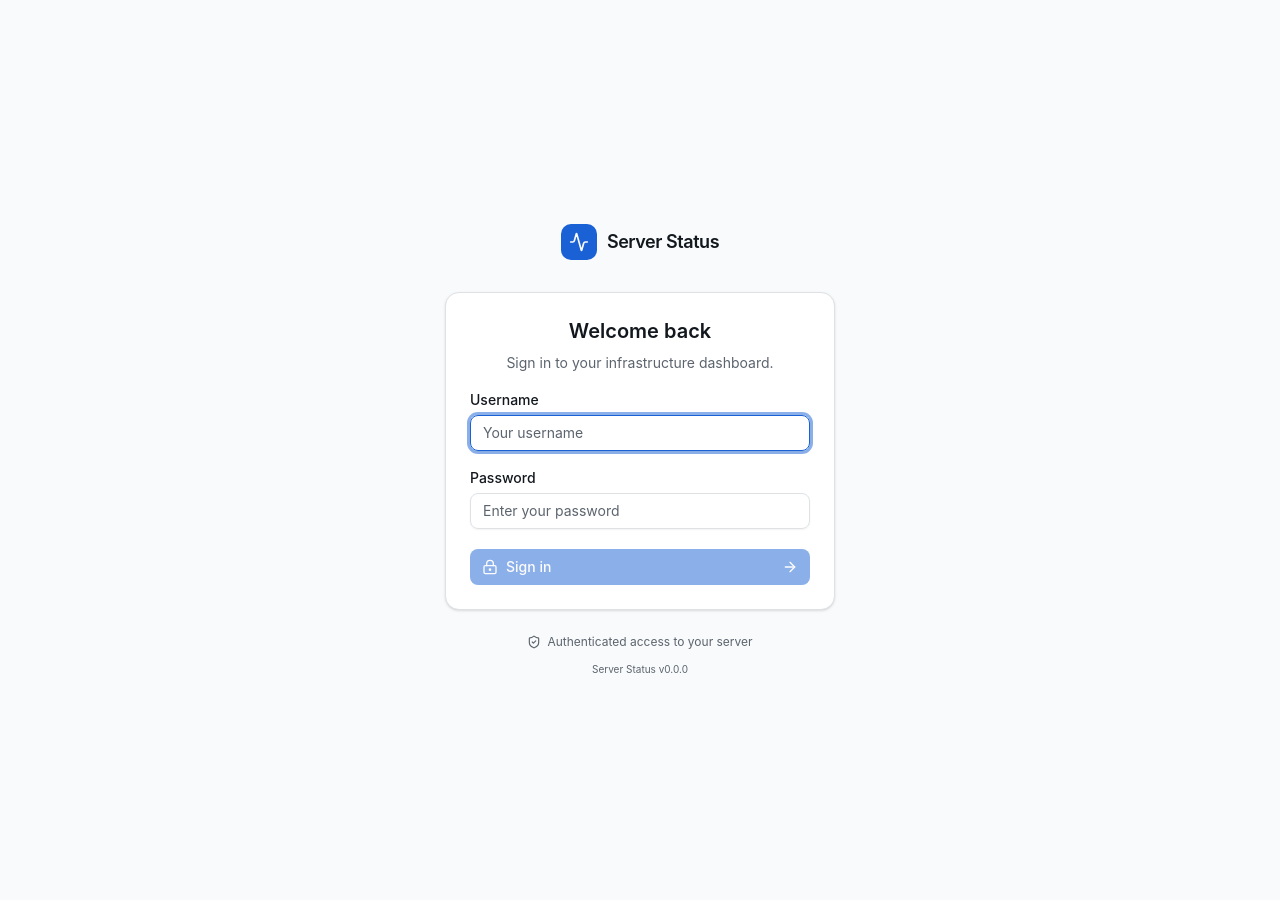
Test: authentication flow › signs in with the form and clears stored data on sign out
The image size is (1280, 900).
Expected: the button "Sign in" is disabled, [470,548,810,584]
Step 1. Type "example-user" into the field labelled "Username" → (640, 432), box [470,414,810,450]
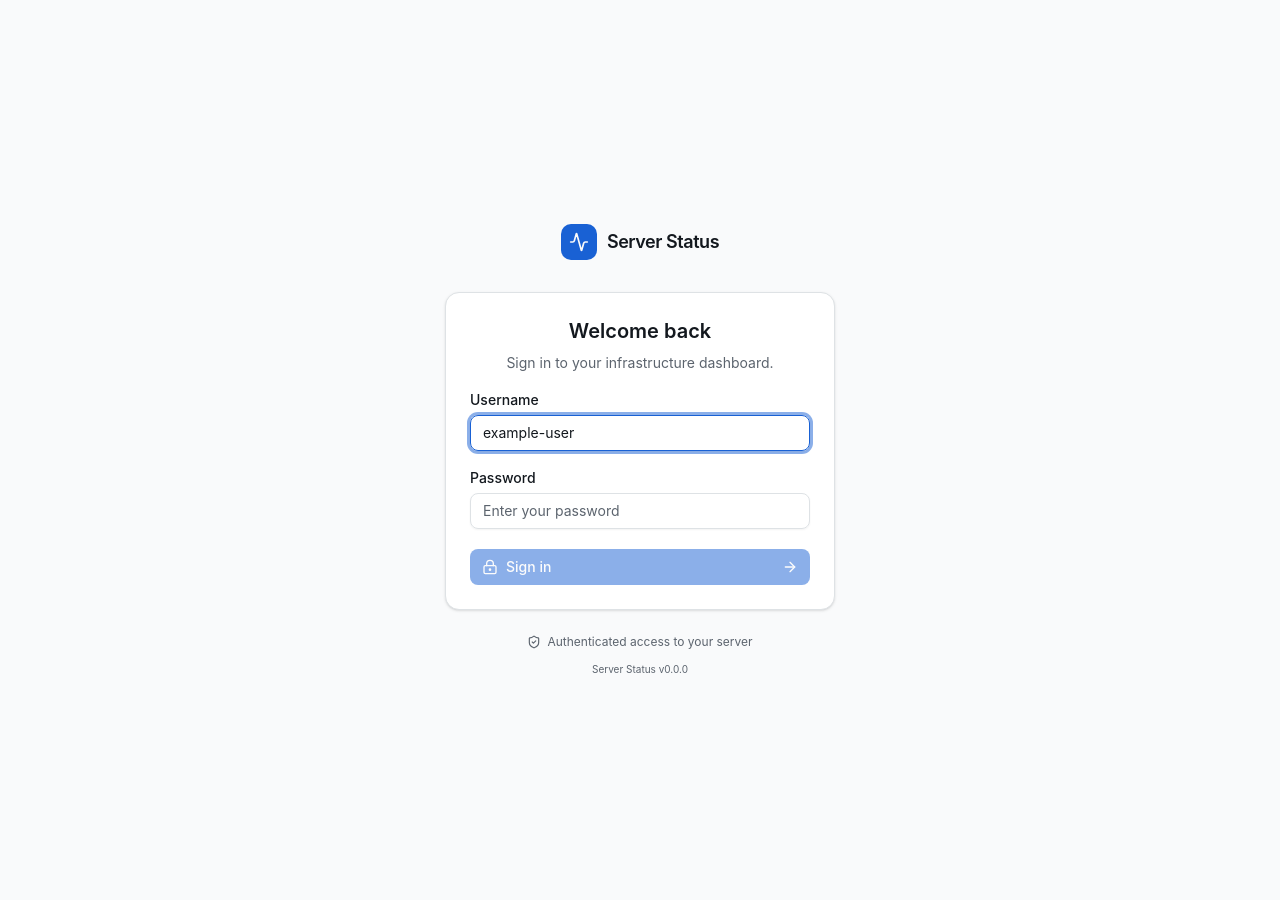
Step 2. Type "test-password" into the password field labelled "Password" → (640, 510), box [470,492,810,528]
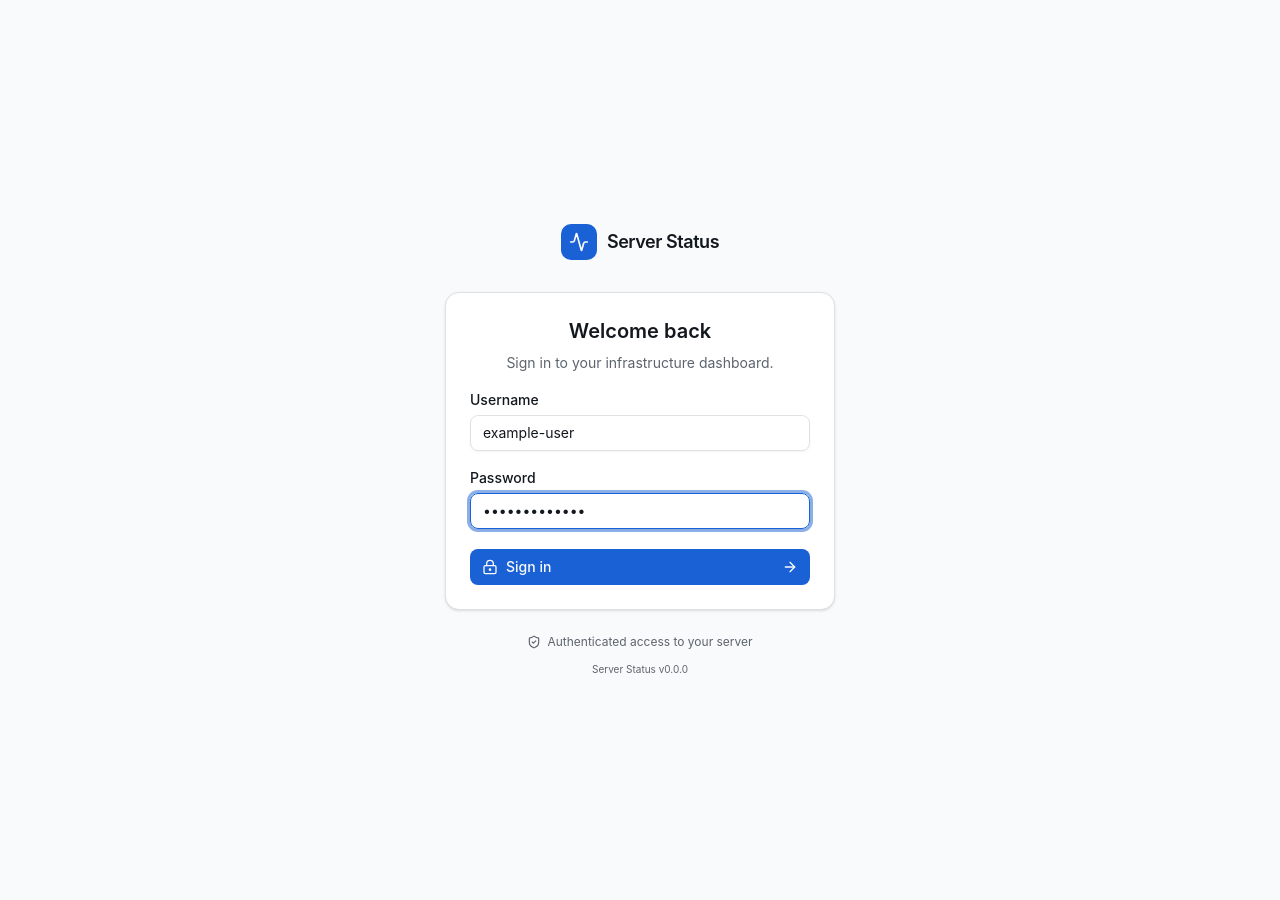
Step 3. Click the button "Sign in" → (529, 566), box [470,548,810,584]
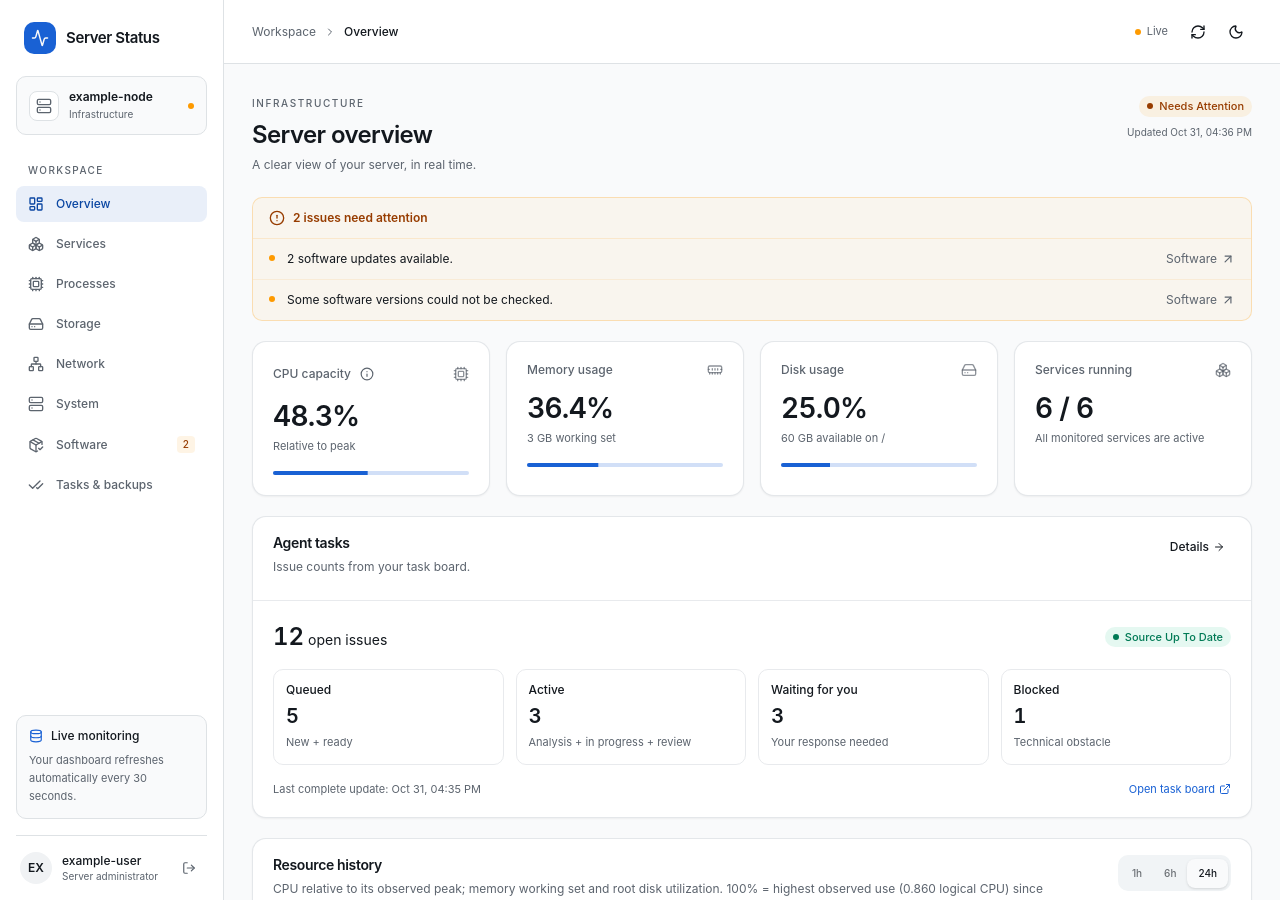
Result: the heading "Server overview" is shown at [252,120,432,149]
Step 4. Click the button named "Sign out" → (189, 868), box [175,854,203,882]
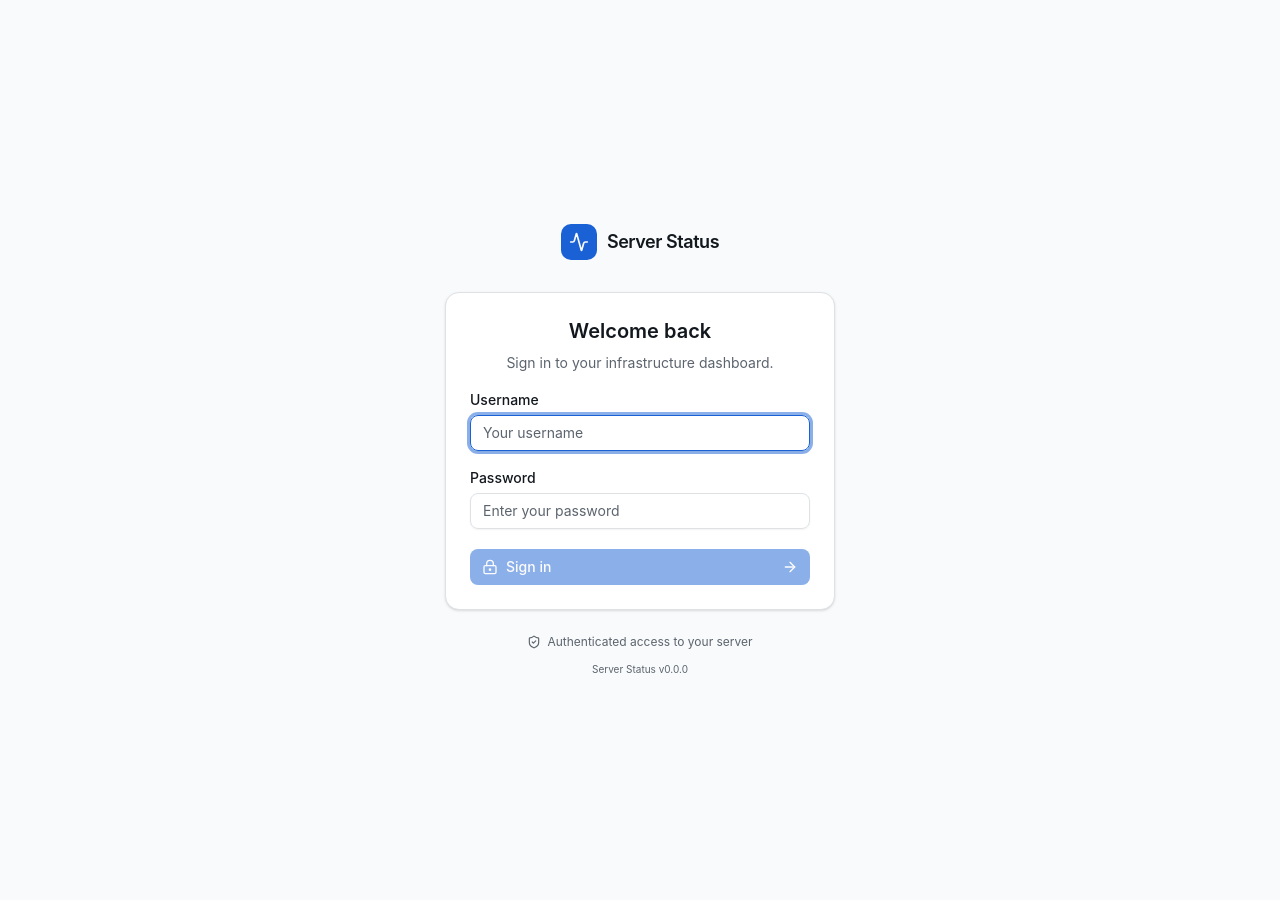
Result: the field labelled "Username" is shown at [470,414,810,450]
Result: the text "example-node" is gone
